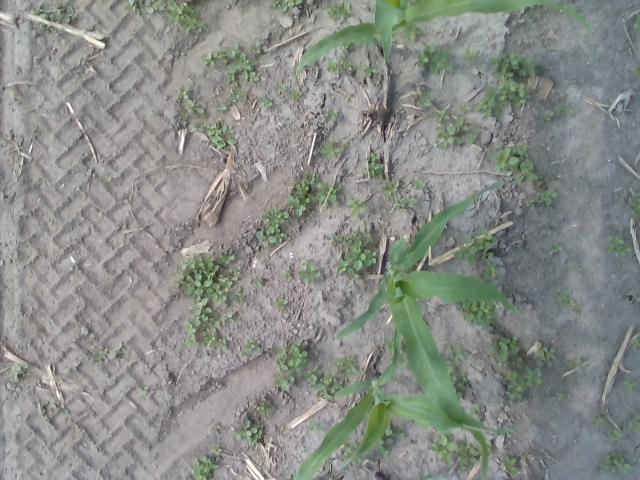Maize: (335, 182, 544, 433), (294, 327, 490, 480), (296, 0, 596, 90)
Weeds: (172, 254, 242, 350), (460, 52, 538, 115), (323, 228, 377, 279), (454, 228, 500, 276), (489, 144, 538, 183), (436, 116, 482, 150), (188, 120, 238, 148), (255, 207, 289, 247), (166, 0, 206, 32), (287, 172, 316, 216), (484, 336, 524, 362), (426, 434, 456, 466), (462, 300, 496, 328), (39, 5, 75, 31), (228, 52, 258, 82), (274, 344, 308, 370), (598, 451, 632, 476), (319, 372, 342, 402), (192, 456, 220, 480), (236, 420, 263, 444), (316, 182, 342, 203), (606, 235, 632, 256), (430, 51, 453, 74), (298, 260, 321, 282), (326, 1, 352, 19), (184, 98, 206, 118), (266, 0, 302, 12), (347, 198, 368, 218), (337, 355, 358, 374), (109, 342, 129, 361), (524, 367, 542, 387), (447, 345, 468, 362), (501, 455, 518, 474), (394, 195, 416, 209), (144, 0, 166, 14), (320, 142, 340, 157), (556, 103, 576, 118), (242, 340, 260, 356), (402, 26, 422, 40), (458, 456, 478, 470), (459, 440, 479, 454), (536, 346, 556, 360), (540, 190, 557, 206), (416, 93, 434, 108), (303, 372, 317, 391), (386, 426, 406, 439), (464, 48, 480, 64), (432, 108, 450, 122), (257, 401, 271, 419), (505, 386, 523, 400), (274, 376, 295, 388), (384, 181, 400, 196), (367, 162, 382, 178), (226, 42, 241, 58), (378, 437, 392, 454), (326, 58, 339, 76), (273, 294, 289, 308), (569, 358, 585, 372), (84, 354, 108, 363), (628, 414, 640, 432), (631, 191, 640, 215), (307, 419, 323, 432), (204, 52, 217, 68), (416, 52, 428, 68), (212, 102, 228, 114), (606, 430, 622, 442), (622, 380, 638, 392), (177, 84, 190, 98), (421, 40, 436, 52), (10, 364, 22, 379), (228, 90, 240, 105), (384, 338, 394, 355), (412, 176, 424, 190), (248, 42, 260, 55), (250, 275, 264, 286), (558, 289, 572, 300), (54, 404, 68, 414), (125, 0, 136, 11), (366, 152, 378, 162), (234, 86, 246, 96), (262, 97, 272, 109), (505, 372, 518, 381), (336, 50, 344, 64), (210, 444, 221, 454), (283, 269, 292, 281), (358, 63, 366, 76), (456, 371, 466, 381), (290, 89, 300, 99), (329, 108, 338, 119), (368, 64, 375, 78), (634, 13, 640, 29), (31, 6, 41, 15), (342, 62, 352, 70), (178, 112, 188, 120), (632, 340, 640, 349), (566, 299, 574, 308), (342, 41, 352, 48), (546, 112, 554, 120), (526, 198, 534, 206), (219, 53, 228, 60), (142, 386, 148, 396), (574, 266, 584, 272), (399, 352, 406, 360), (279, 82, 286, 90), (341, 141, 347, 150), (600, 408, 608, 414), (595, 418, 603, 424), (626, 406, 634, 412), (554, 394, 562, 400), (188, 77, 194, 84), (537, 360, 544, 366), (618, 224, 624, 231), (552, 246, 560, 251), (105, 176, 112, 181), (635, 67, 640, 74), (358, 371, 363, 376), (538, 180, 541, 186)
